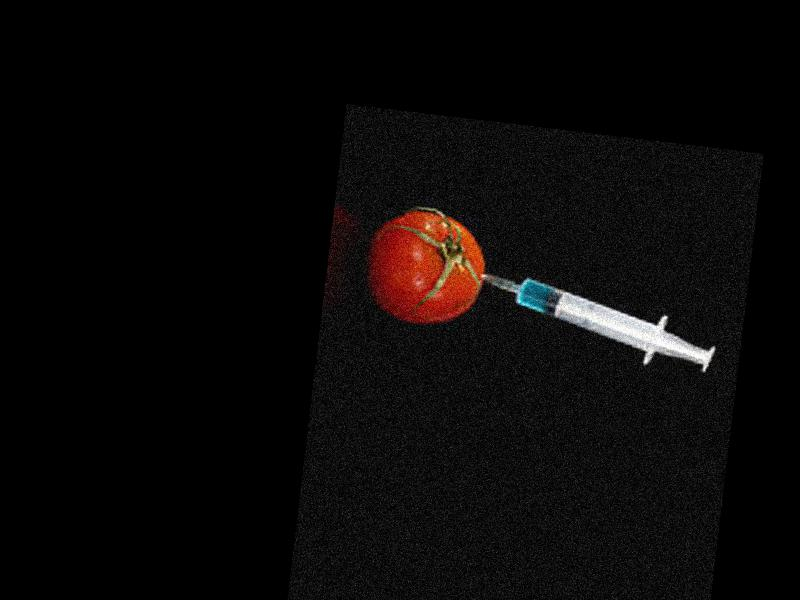Tomato: (364, 202, 492, 331)
